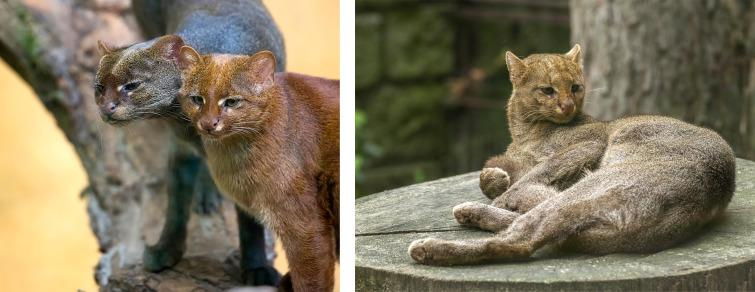Jaguarundi: (400, 49, 740, 276), (90, 9, 339, 286)
